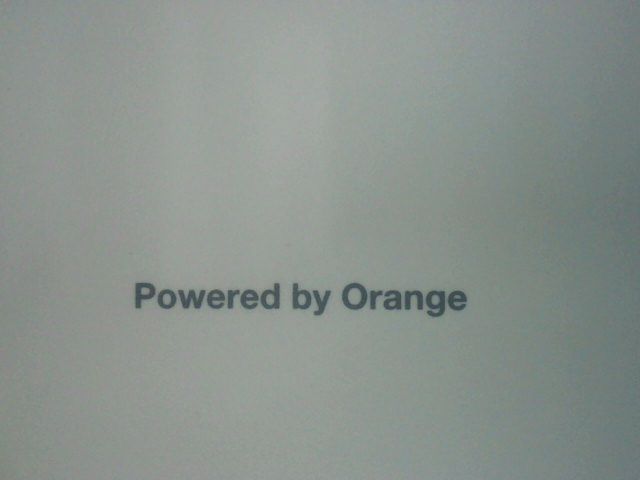AS_PowerByOrange: (132, 271, 485, 321)
